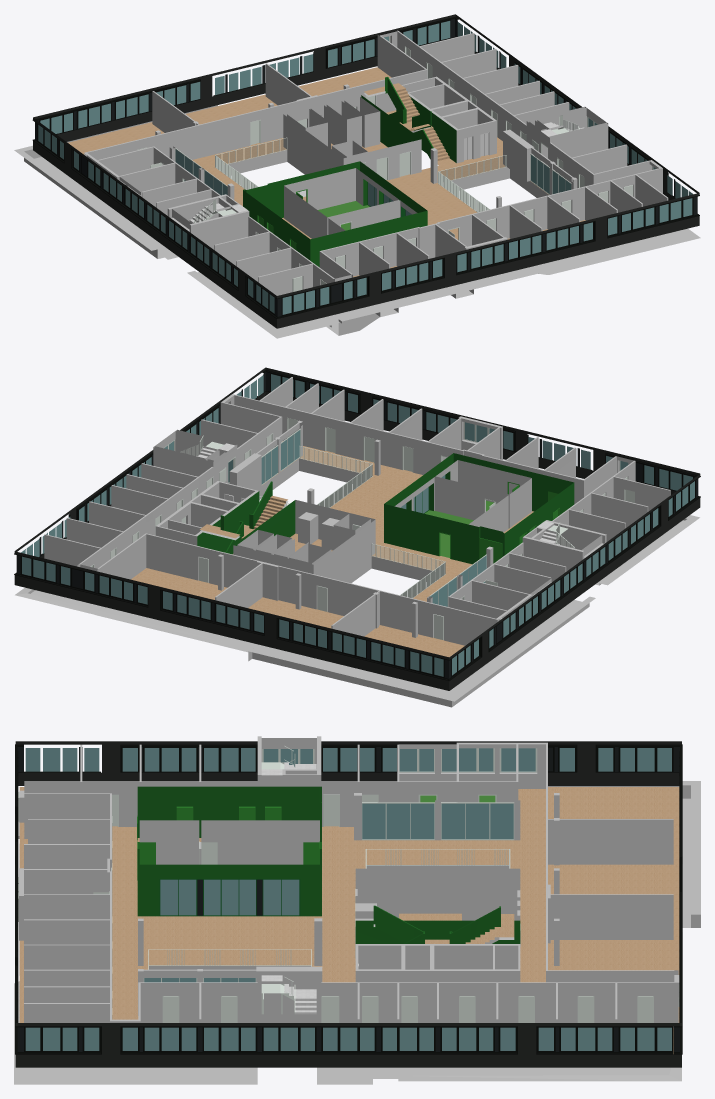
3 renders of one model, top to bottom at view 1: azimuth 30°, elevation 25°; view 2: azimuth 150°, elevation 25°; view 3: azimuth 270°, elevation 25°, orthographic. The views are drawn at different scales.
Parts seen in each view (by area): view 1: LEVEL1_WALL_01, LEVEL1_FLOOR_CEILING_00, LEVEL1_GLASS_00, LEVEL1_FACADE_00, LEVEL1_FACADE_01, LEVEL1_WALL_03, LEVEL1_STAIRS_03, LEVEL1_RAILING_01, LEVEL1_RAILING_00, LEVEL1_FLOOR_CEILING_03; view 2: LEVEL1_WALL_01, LEVEL1_FLOOR_CEILING_00, LEVEL1_GLASS_00, LEVEL1_FACADE_00, LEVEL1_WALL_03, LEVEL1_FACADE_01, LEVEL1_STAIRS_03, LEVEL1_RAILING_01, LEVEL1_RAILING_00, LEVEL1_WALL_00; view 3: LEVEL1_WALL_01, LEVEL1_FLOOR_CEILING_00, LEVEL1_GLASS_00, LEVEL1_FACADE_00, LEVEL1_WALL_03, LEVEL1_FACADE_01, LEVEL1_STAIRS_03, LEVEL1_FRAME_04, LEVEL1_WALL_00, LEVEL1_RAILING_00, LEVEL1_RAILING_01, LEVEL1_STAIRS_00 (+3 smaller).
Part boxes in pixels (x1,y1,x2,y2): LEVEL1_WALL_01: (84, 30, 668, 295); LEVEL1_FLOOR_CEILING_00: (14, 67, 700, 338); LEVEL1_GLASS_00: (38, 21, 692, 314); LEVEL1_FACADE_00: (33, 14, 699, 328); LEVEL1_FACADE_01: (32, 17, 699, 318); LEVEL1_WALL_03: (169, 146, 427, 267); LEVEL1_STAIRS_03: (364, 77, 454, 165); LEVEL1_RAILING_01: (438, 155, 506, 212); LEVEL1_RAILING_00: (215, 137, 306, 196); LEVEL1_FLOOR_CEILING_03: (326, 289, 473, 335); LEVEL1_WALL_01: (44, 377, 670, 645); LEVEL1_FLOOR_CEILING_00: (15, 441, 699, 707); LEVEL1_GLASS_00: (21, 374, 694, 676); LEVEL1_FACADE_00: (14, 367, 700, 690); LEVEL1_WALL_03: (384, 453, 574, 602); LEVEL1_FACADE_01: (14, 370, 700, 680); LEVEL1_STAIRS_03: (200, 481, 288, 554); LEVEL1_RAILING_01: (259, 446, 372, 507); LEVEL1_RAILING_00: (371, 543, 445, 598); LEVEL1_WALL_00: (218, 437, 417, 637); LEVEL1_WALL_01: (18, 736, 679, 1027); LEVEL1_FLOOR_CEILING_00: (14, 781, 700, 1084); LEVEL1_GLASS_00: (25, 748, 671, 1050); LEVEL1_FACADE_00: (15, 741, 681, 1067); LEVEL1_WALL_03: (137, 786, 520, 916); LEVEL1_FACADE_01: (15, 744, 682, 1054); LEVEL1_STAIRS_03: (373, 905, 514, 943); LEVEL1_FRAME_04: (159, 879, 300, 916); LEVEL1_WALL_00: (138, 793, 559, 982); LEVEL1_RAILING_00: (365, 849, 510, 868); LEVEL1_RAILING_01: (148, 949, 311, 969); LEVEL1_STAIRS_00: (261, 984, 316, 1014).
Bounding box in the file's own units: 41.57 × 8.5 × 41.6.
